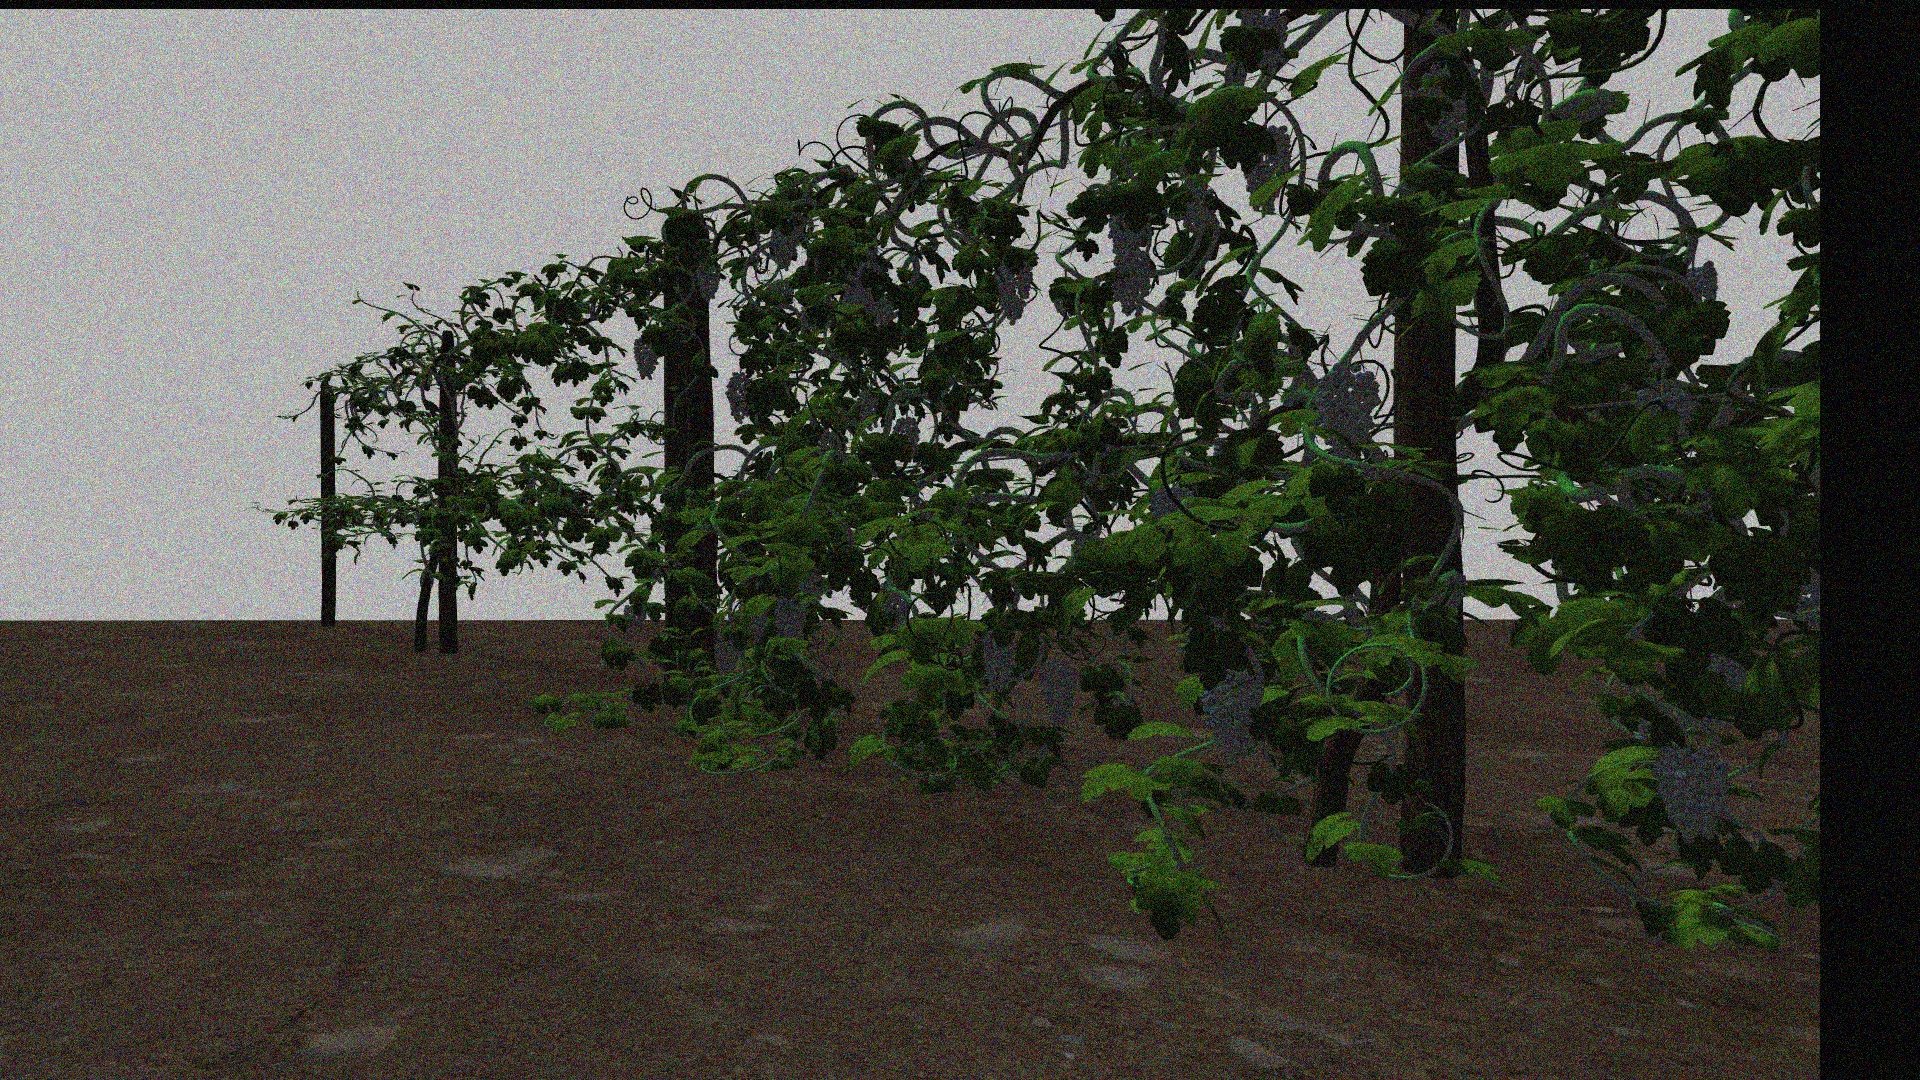grape: (1651, 745, 1731, 843), (1315, 360, 1381, 458), (1201, 670, 1258, 764), (1422, 63, 1476, 146), (843, 262, 891, 327), (1240, 11, 1288, 73), (1112, 247, 1153, 316), (996, 252, 1035, 323), (1040, 659, 1077, 731), (981, 628, 1019, 690), (767, 208, 804, 269), (1106, 206, 1145, 253), (1246, 161, 1276, 218), (775, 592, 808, 644), (1266, 123, 1292, 179), (727, 369, 752, 423), (884, 588, 913, 633), (695, 258, 723, 303), (891, 415, 920, 456), (634, 334, 659, 378), (713, 636, 740, 675), (738, 607, 769, 641), (622, 601, 647, 633)
